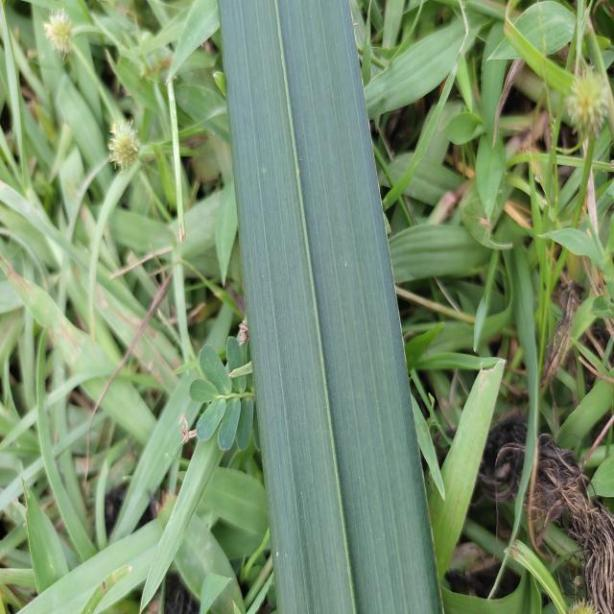Healthy: (221, 0, 443, 614)
